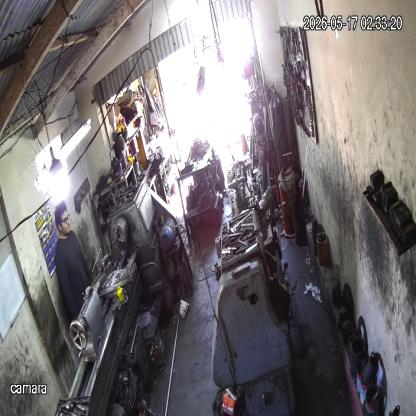lentes: (58, 213, 72, 228)
